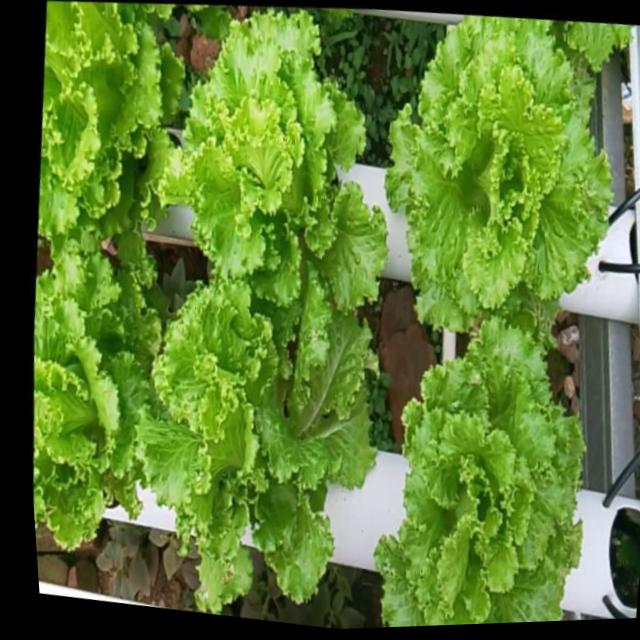Mature: (139, 279, 376, 629), (384, 15, 616, 334), (160, 10, 387, 311), (374, 314, 584, 627), (38, 1, 182, 270), (34, 253, 159, 550)
